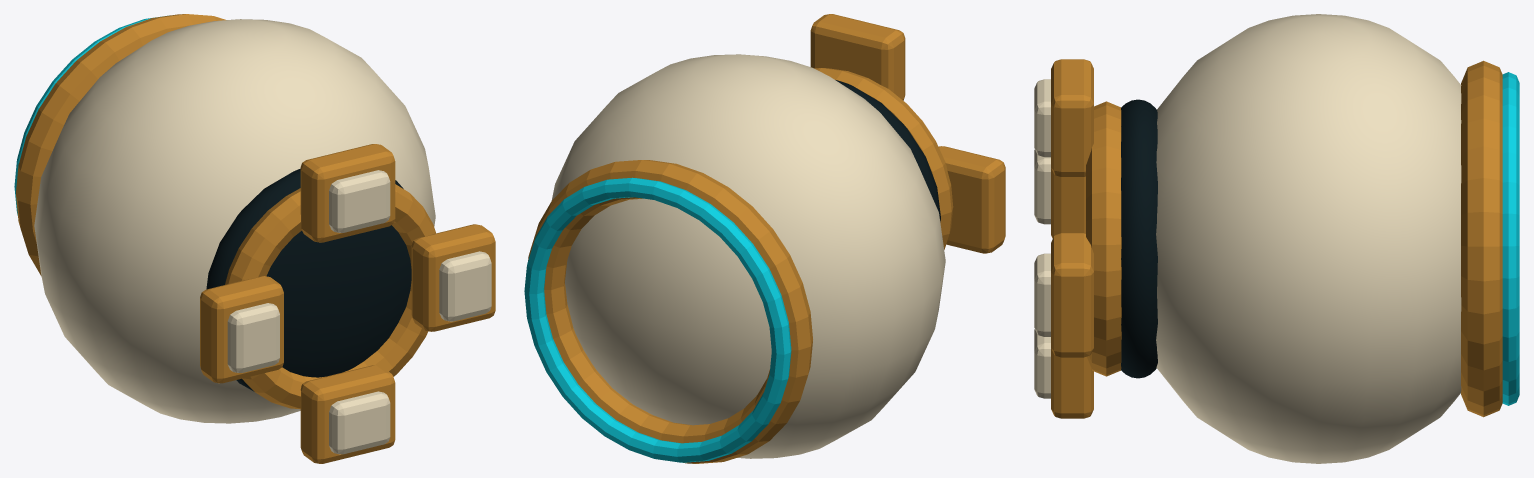
Rendered from FearWormHead_0.obj.
3 renders of one model, left to right at view 1: azimuth 30°, elevation 25°; view 2: azimuth 150°, elevation 25°; view 3: azimuth 270°, elevation 25°, orthographic. The views are drawn at different scales.
Parts seen in each view (by area): view 1: Armoured_head; view 2: Armoured_head; view 3: Armoured_head.
Part boxes in pixels (x1,y1,x2,y2): Armoured_head: [14, 14, 495, 463]; Armoured_head: [524, 14, 1005, 463]; Armoured_head: [1034, 14, 1519, 463].
Size of the model in its own units: 2 by 2 by 2.15.
1 material, 1 textured.
